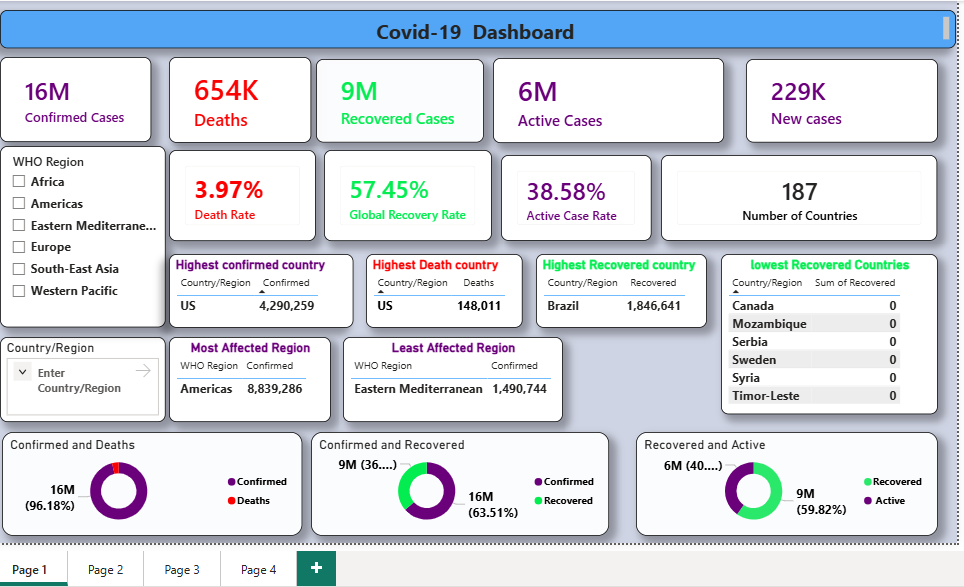

Layout of this report page (visuals, bound fields, positions):
{"tool":"powerbi","page":{"name":"Page 1","canvas":[1280,720],"ordinal":0},"visuals":[{"type":"cardVisual","fields":{"Data":["Sum(country_wise_latest.Confirmed)"]},"box":[10,11.4,200,112.9],"z":0},{"type":"cardVisual","fields":{"Data":["Sum(country_wise_latest.Deaths)"]},"box":[815.7,11.4,207.1,114.3],"z":1000},{"type":"cardVisual","fields":{"Data":["Sum(country_wise_latest.Active)"]},"box":[11.4,138.6,198.6,112.9],"z":2000},{"type":"cardVisual","fields":{"Data":["Sum(country_wise_latest.New cases)"]},"box":[228.6,11.4,248.6,114.3],"z":3000},{"type":"cardVisual","fields":{"Data":["Sum(country_wise_latest.Recovered)"]},"box":[1038.6,11.4,230,111.4],"z":4000},{"type":"image","box":[490,11.4,314.3,114.3],"z":5000},{"type":"textbox","box":[490,138.6,314.3,112.9],"z":6000},{"type":"tableEx","title":"Highest confirmed country","fields":{"Values":["country_wise_latest.Country/Region","Sum(country_wise_latest.Confirmed)"]},"box":[10,272.9,244.3,97.1],"z":7000},{"type":"tableEx","title":"Highest Death country","fields":{"Values":["country_wise_latest.Country/Region","Sum(country_wise_latest.Deaths)"]},"box":[268.6,272.9,262.9,97.1],"z":8000},{"type":"tableEx","title":"Highest Recovered country","fields":{"Values":["country_wise_latest.Country/Region","Sum(country_wise_latest.Recovered)"]},"box":[551.4,272.9,252.9,97.1],"z":9000},{"type":"tableEx","title":"lowest Recovered Countries","fields":{"Values":["country_wise_latest.Country/Region","Sum(country_wise_latest.Recovered)"]},"box":[531.4,522.9,287.1,187.1],"z":10000},{"type":"tableEx","title":"Most Affected Region","fields":{"Values":["country_wise_latest.WHO Region","Sum(country_wise_latest.Confirmed)"]},"box":[11.4,384.3,244.3,127.1],"z":11000},{"type":"tableEx","title":"Least Affected Region","fields":{"Values":["country_wise_latest.WHO Region","Sum(country_wise_latest.Confirmed)"]},"box":[271.4,384.3,291.4,127.1],"z":12000},{"type":"cardVisual","fields":{"Data":["country_wise_latest.Number of Countries"]},"box":[580,384.3,290,127.1],"z":13000},{"type":"cardVisual","fields":{"Data":["country_wise_latest.Death Rate"]},"box":[10,522.9,244.3,121.4],"z":14000},{"type":"cardVisual","fields":{"Data":["country_wise_latest.Global Recovery Rate"]},"box":[268.6,522.9,254.3,121.4],"z":15000},{"type":"textSlicer","fields":{"Values":["country_wise_latest.Country/Region"]},"box":[214.3,138.6,262.9,112.9],"z":16000},{"type":"slicer","fields":{"Values":["country_wise_latest.WHO Region"]},"box":[825.7,131.4,212.9,240],"z":17000},{"type":"donutChart","fields":{"Y":["Sum(country_wise_latest.Recovered)","Sum(country_wise_latest.Active)"]},"box":[878.6,378.6,390,331.4],"z":18000},{"type":"cardVisual","fields":{"Data":["country_wise_latest.Active Case Rate"]},"box":[1054.3,131.4,214.3,240],"z":19000}]}

Visuals, with their boxes on the page's 1280x720 design canvas (x1, y1, x2, y2). These are canvas units, not pixel positions in the 964x587 screenshot, which may show the page scaled, cropped or inside an application window:
cardVisual - Sum(country_wise_latest.Confirmed): bbox(10, 11, 210, 124)
cardVisual - Sum(country_wise_latest.Deaths): bbox(816, 11, 1023, 126)
cardVisual - Sum(country_wise_latest.Active): bbox(11, 139, 210, 252)
cardVisual - Sum(country_wise_latest.New cases): bbox(229, 11, 477, 126)
cardVisual - Sum(country_wise_latest.Recovered): bbox(1039, 11, 1269, 123)
image: bbox(490, 11, 804, 126)
textbox: bbox(490, 139, 804, 252)
"Highest confirmed country" tableEx: bbox(10, 273, 254, 370)
"Highest Death country" tableEx: bbox(269, 273, 532, 370)
"Highest Recovered country" tableEx: bbox(551, 273, 804, 370)
"lowest Recovered Countries" tableEx: bbox(531, 523, 818, 710)
"Most Affected Region" tableEx: bbox(11, 384, 256, 511)
"Least Affected Region" tableEx: bbox(271, 384, 563, 511)
cardVisual - country_wise_latest.Number of Countries: bbox(580, 384, 870, 511)
cardVisual - country_wise_latest.Death Rate: bbox(10, 523, 254, 644)
cardVisual - country_wise_latest.Global Recovery Rate: bbox(269, 523, 523, 644)
textSlicer - country_wise_latest.Country/Region: bbox(214, 139, 477, 252)
slicer - country_wise_latest.WHO Region: bbox(826, 131, 1039, 371)
donutChart - Sum(country_wise_latest.Recovered) x Sum(country_wise_latest.Active): bbox(879, 379, 1269, 710)
cardVisual - country_wise_latest.Active Case Rate: bbox(1054, 131, 1269, 371)
